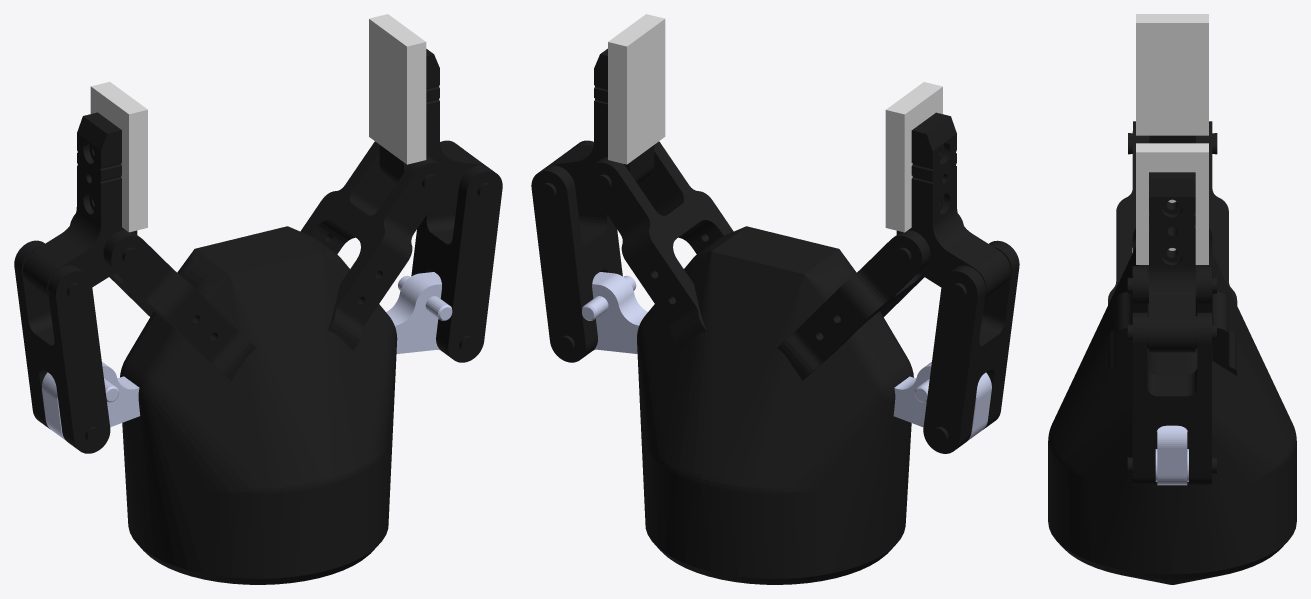
Rendered from robotiq_2f_85.dae.
The picture shows the model from 3 angles, left to right: view 1: azimuth 30°, elevation 25°; view 2: azimuth 150°, elevation 25°; view 3: azimuth 270°, elevation 25°; orthographic projection. The views are drawn at different scales.
Visible parts, largest first — view 1: robotiq_arg2f_base_link, left_inner_knuckle, right_outer_finger, left_outer_finger, right_inner_finger, right_inner_knuckle, left_inner_finger_pad, right_inner_finger_pad, left_outer_knuckle, left_inner_finger, right_outer_knuckle; view 2: robotiq_arg2f_base_link, left_inner_knuckle, right_outer_finger, left_outer_finger, right_inner_finger, right_inner_knuckle, left_inner_finger_pad, right_inner_finger_pad, left_outer_knuckle, left_inner_finger, right_outer_knuckle; view 3: robotiq_arg2f_base_link, left_outer_finger, right_inner_finger_pad, left_inner_finger, left_inner_finger_pad, left_inner_knuckle, right_inner_knuckle, left_outer_knuckle, right_inner_finger.
Boxes of the visible parts, x1,y1,x2,y2 form: robotiq_arg2f_base_link: (120, 226, 397, 584); left_inner_knuckle: (300, 141, 447, 350); right_outer_finger: (14, 240, 110, 453); left_outer_finger: (411, 140, 502, 362); right_inner_finger: (23, 112, 137, 297); right_inner_knuckle: (70, 213, 256, 380); left_inner_finger_pad: (369, 14, 426, 164); right_inner_finger_pad: (90, 81, 147, 232); left_outer_knuckle: (386, 272, 452, 353); left_inner_finger: (379, 49, 486, 201); right_outer_knuckle: (42, 362, 140, 440); robotiq_arg2f_base_link: (637, 226, 913, 584); left_inner_knuckle: (586, 141, 733, 350); right_outer_finger: (923, 240, 1019, 453); left_outer_finger: (531, 140, 622, 362); right_inner_finger: (896, 112, 1010, 297); right_inner_knuckle: (777, 214, 963, 380); left_inner_finger_pad: (608, 14, 665, 164); right_inner_finger_pad: (885, 82, 942, 232); left_outer_knuckle: (582, 272, 647, 353); left_inner_finger: (547, 48, 654, 201); right_outer_knuckle: (893, 362, 991, 440); robotiq_arg2f_base_link: (1048, 246, 1296, 584); left_outer_finger: (1127, 312, 1216, 485); right_inner_finger_pad: (1136, 14, 1208, 135); left_inner_finger: (1147, 172, 1197, 352); left_inner_finger_pad: (1136, 143, 1208, 264); left_inner_knuckle: (1107, 266, 1236, 375); right_inner_knuckle: (1108, 126, 1237, 305); left_outer_knuckle: (1155, 425, 1188, 485); right_inner_finger: (1147, 135, 1197, 143).
Size of the model in its own units: 0.1484 by 0.075 by 0.1518.
